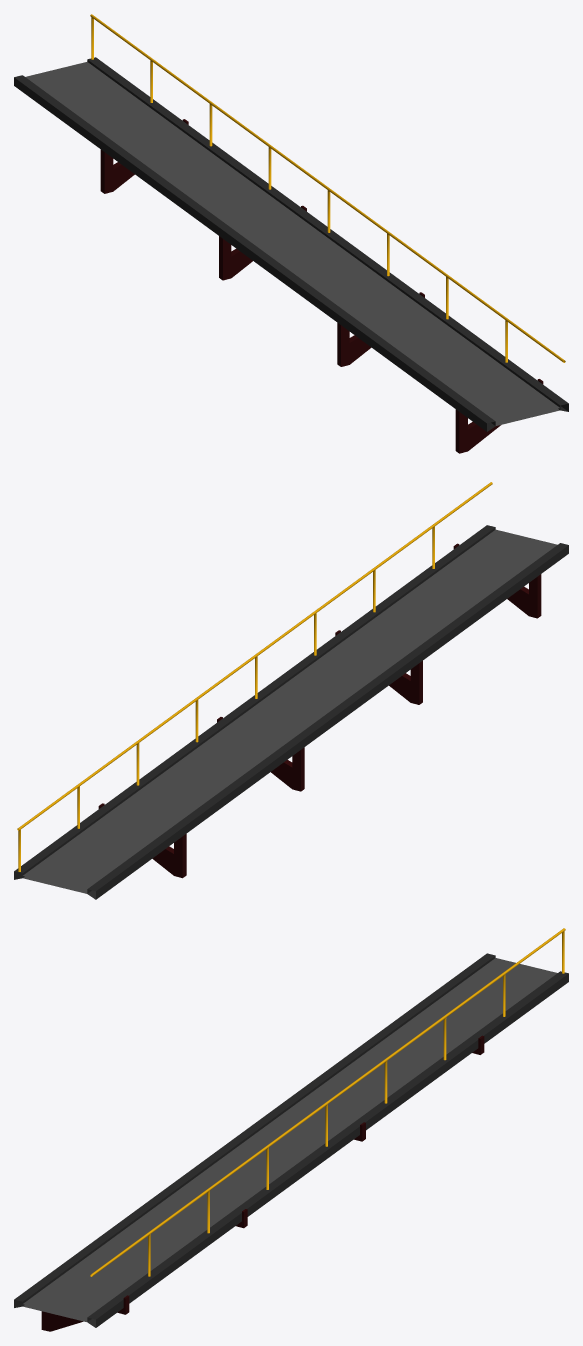
Rendered from Catwalk_Modularfbx.fbx.
3 views of the same model, one above another, from view 1: azimuth 30°, elevation 25°; view 2: azimuth 150°, elevation 25°; view 3: azimuth 330°, elevation 25° (orthographic).
Parts seen in each view (by area): view 1: Catwalk; view 2: Catwalk; view 3: Catwalk.
Part boxes in pixels (x1,y1,x2,y2): Catwalk: [14, 14, 568, 453]; Catwalk: [14, 482, 568, 899]; Catwalk: [14, 928, 568, 1331].
Size of the model in its own units: 154 by 165 by 1500.
